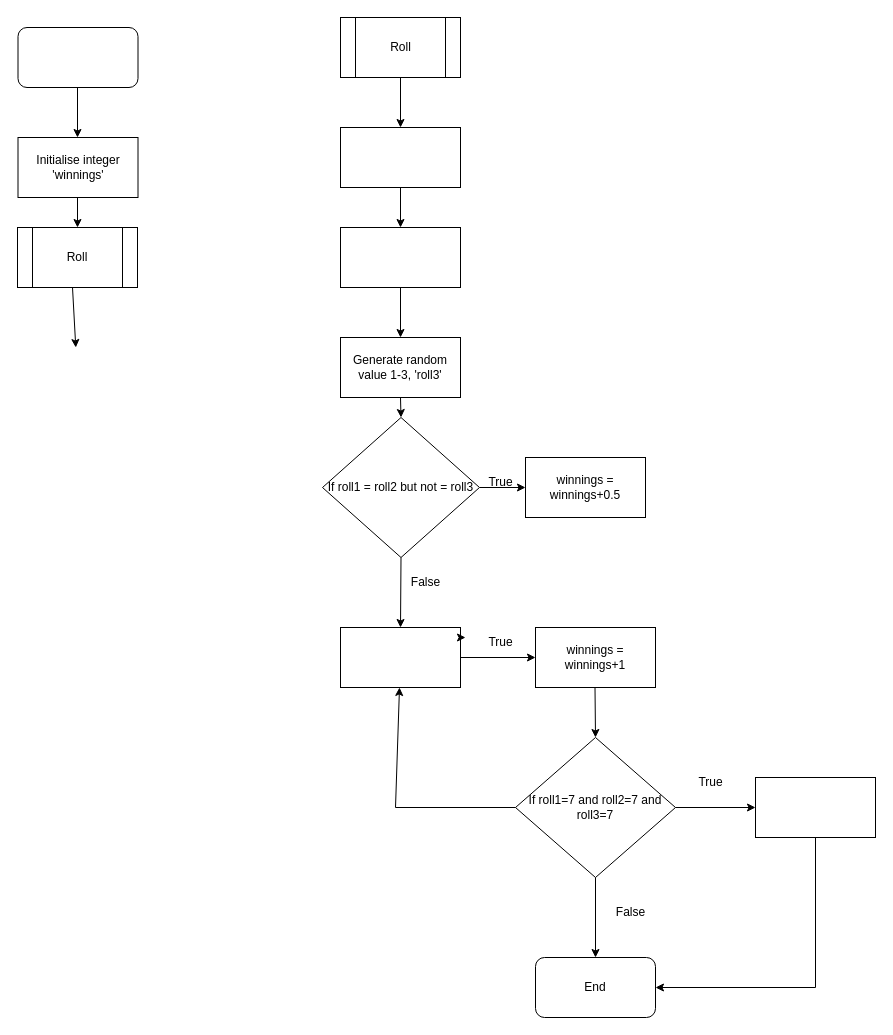
The diagram is 893 pixels wide and 1035 high, and some of its shapes have lost their labels. Here are the shapes that lost their labels. From the top down, the centre of each, then its label:
At point (77, 57): "Start".
At point (400, 157): "Generate random value 1-3, 'roll1'".
At point (400, 257): "Generate random value 1-3, 'roll2'".
At point (400, 657): "If roll1=roll2=roll3".
At point (815, 807): "winnings = winnings+5".
